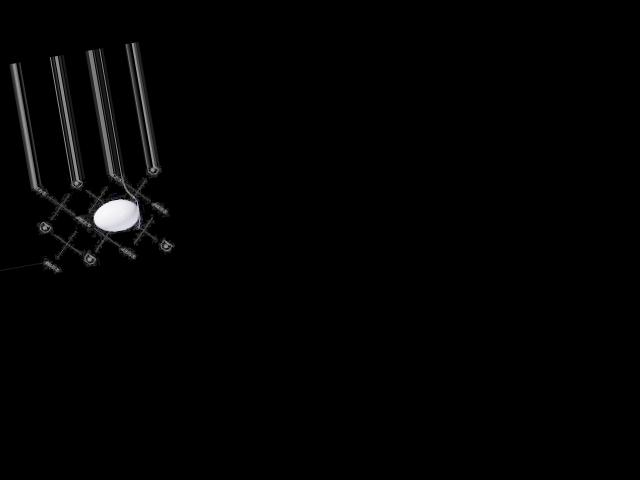egg: (91, 195, 141, 234)
